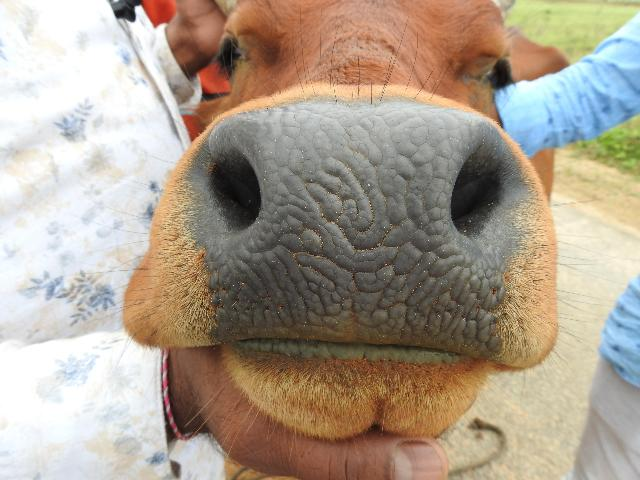Muzzle: (218, 108, 478, 342)
